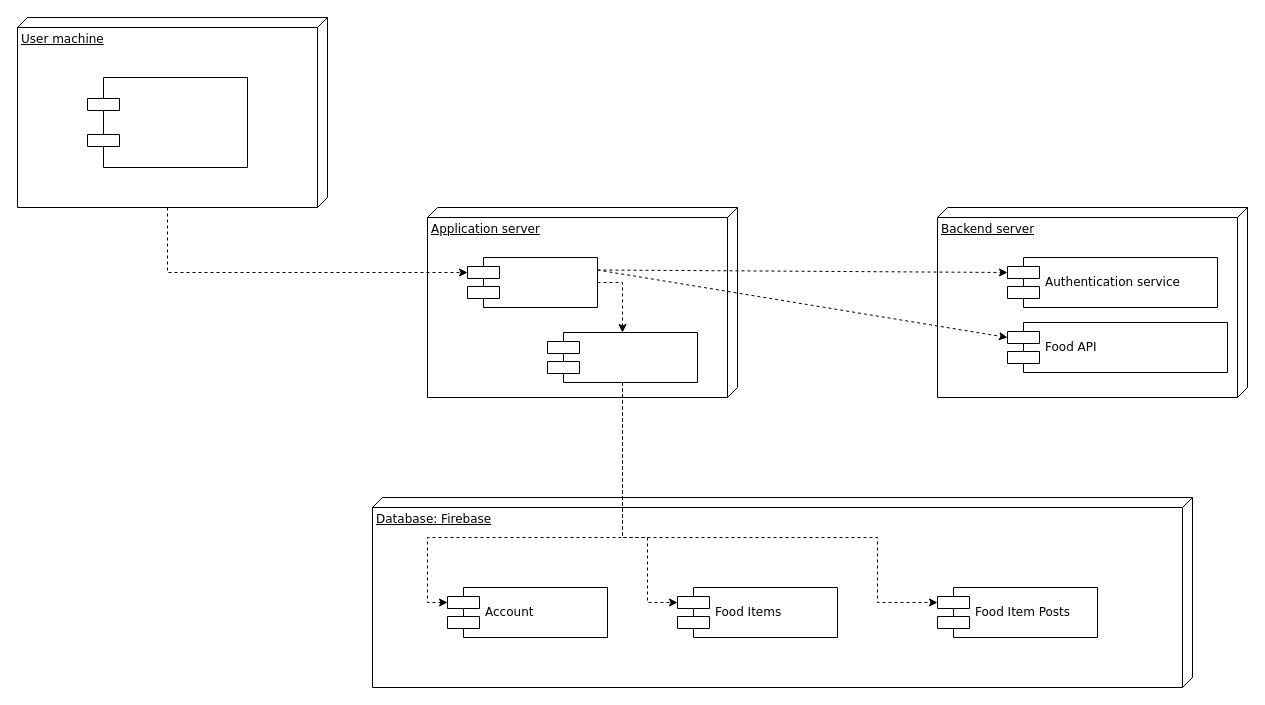
Some shapes in this 1265 by 705 pixel diagram are drawn without their labels. The centre of each missing label's shape, as x and y in pixels:
"Firebase API" goes at [622,357].
"Foodify app" goes at [532,282].
"Web browser" goes at [167,122].
